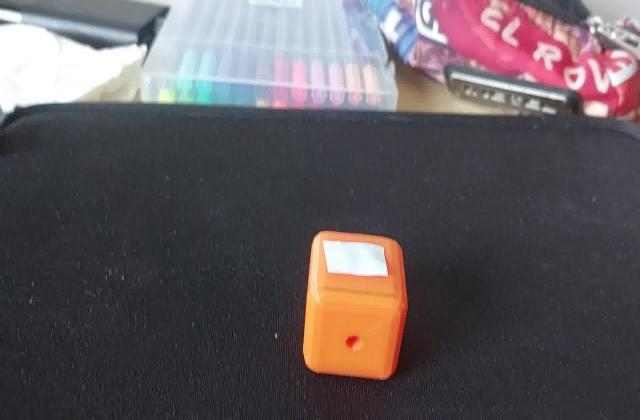cube: (302, 226, 412, 382)
white: (322, 241, 394, 282)
